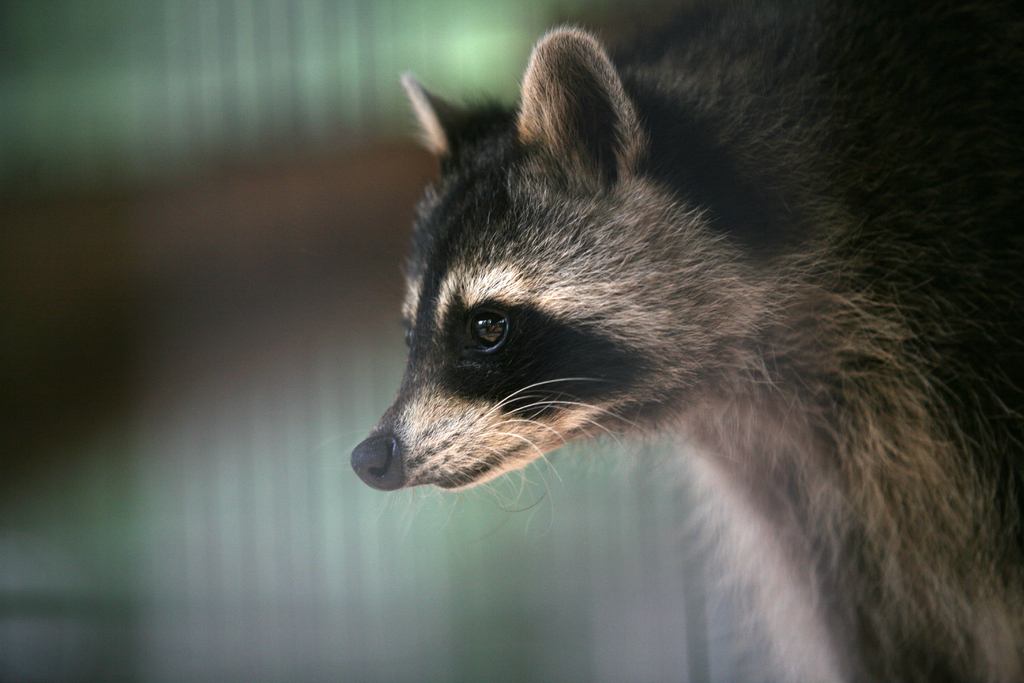person: (510, 26, 654, 193)
